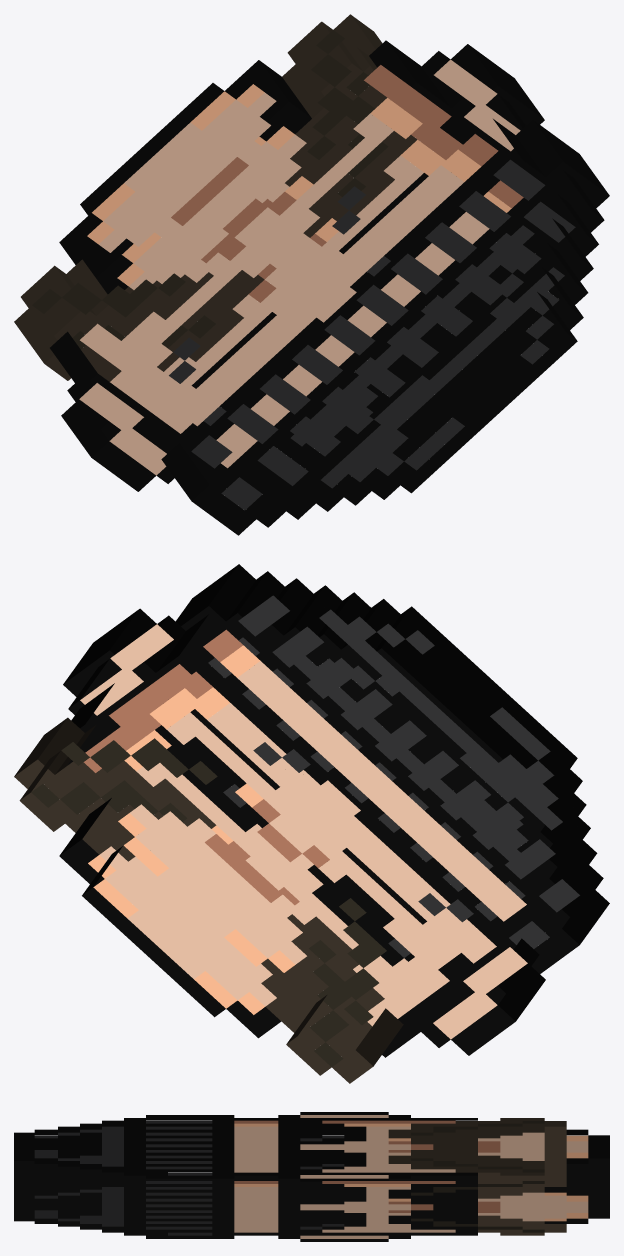
3 renders of one model, top to bottom at view 1: azimuth 30°, elevation 25°; view 2: azimuth 150°, elevation 25°; view 3: azimuth 270°, elevation 25°, orthographic. The views are drawn at different scales.
Parts seen in each view (by area): view 1: Cube; view 2: Cube; view 3: Cube.
Boxes of the visible parts, <box> form: Cube: <box>14,14,609,535</box>; Cube: <box>14,564,609,1083</box>; Cube: <box>14,1112,609,1241</box>.
Size of the model in its own units: 2.38 by 1.68 by 3.
